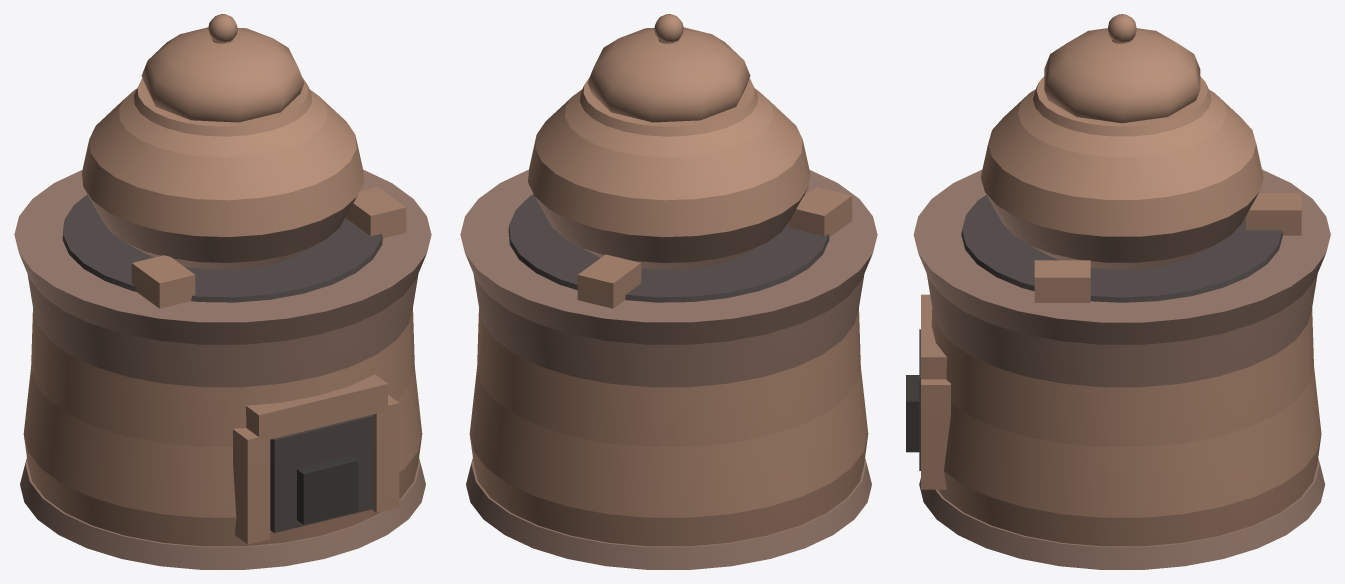
File: changkran.glb
3 views of the same model, side by side, from view 1: azimuth 30°, elevation 25°; view 2: azimuth 150°, elevation 25°; view 3: azimuth 270°, elevation 25° (orthographic).
Bounding box in the file's own units: 2.23 × 2.78 × 2.28.
